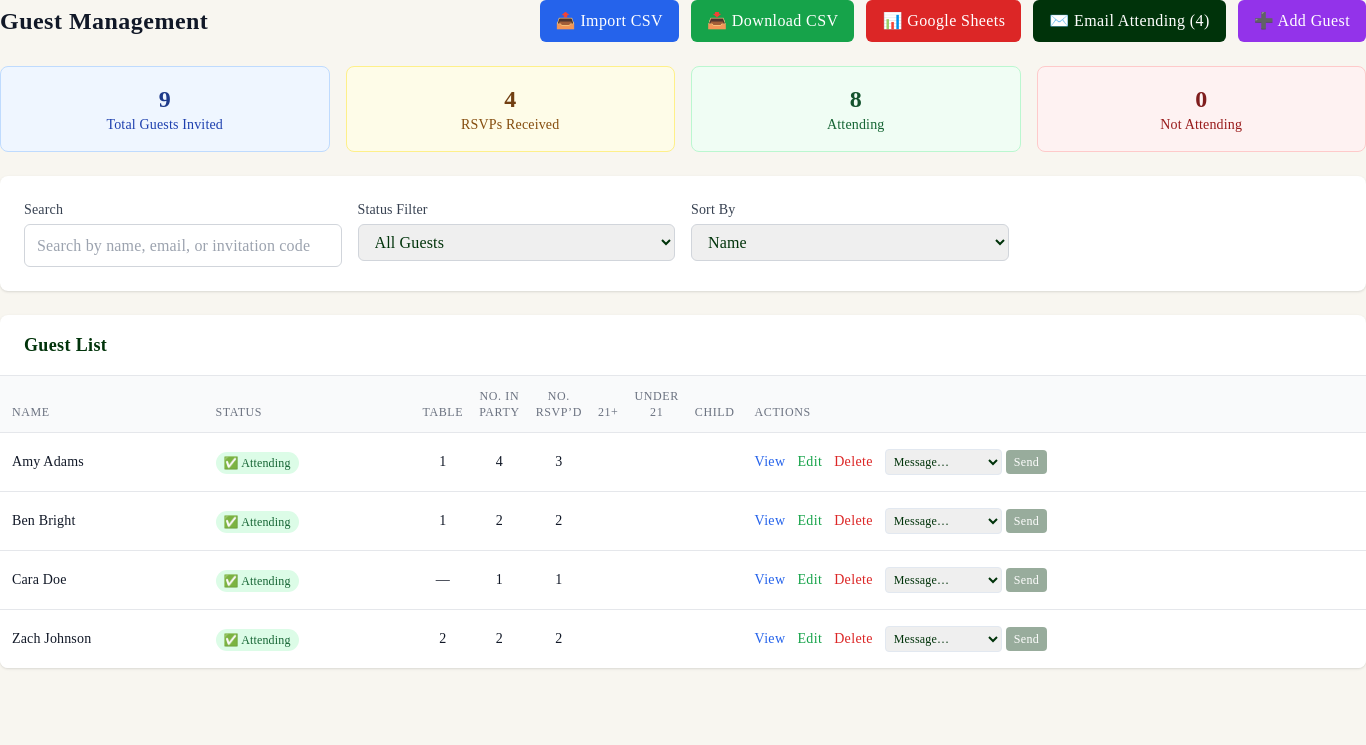
Test: sorted by table number › groups parties under a sub-header per table
Expected: the text "Amy Adams" is shown, [12,454,84,469]
Select "Table Number" in the dropdown labelled "Sort By" at (850, 242), box [691,224,1008,261]
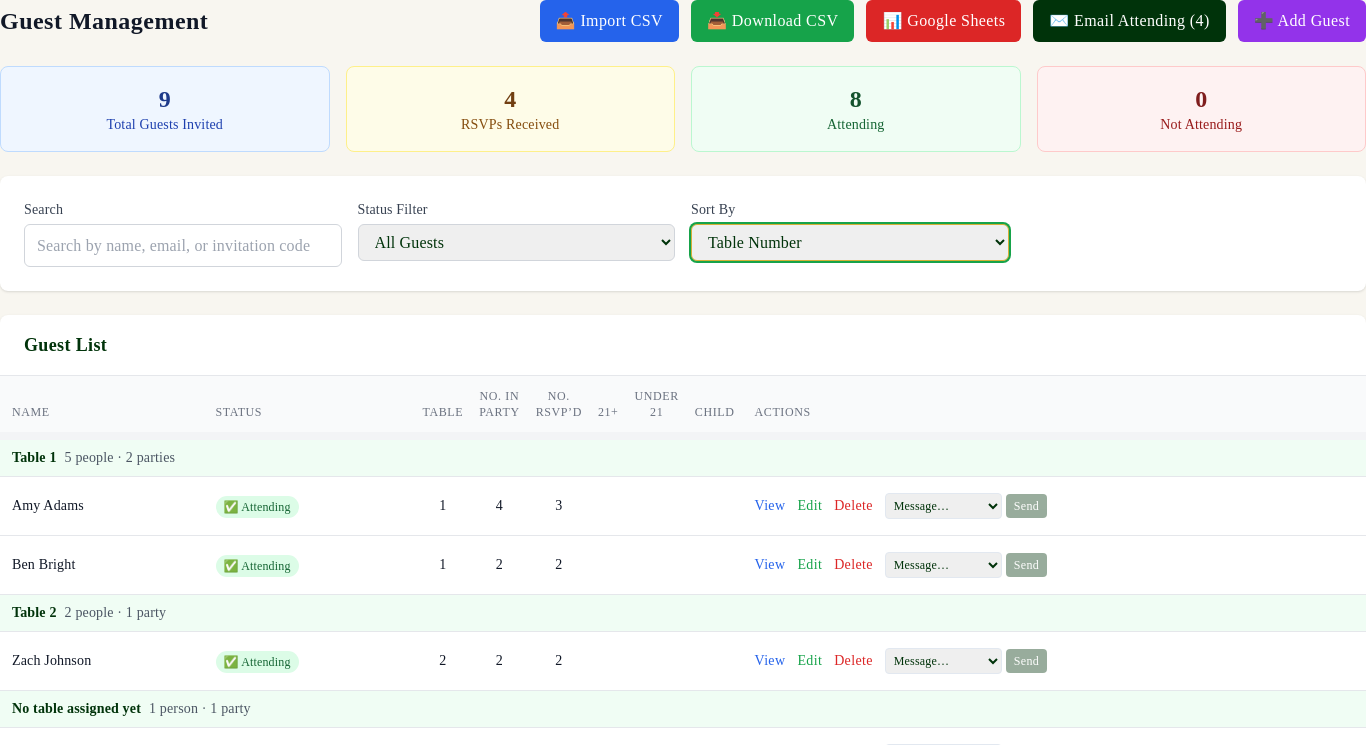
Expected: the row "Amy Adams ✅ Attending 1 4 3 View Edit Delete Send" is shown, [0,477,1365,536]
Now the text "Table 15 people · 2 parties" is shown, box [0,436,1365,477]
